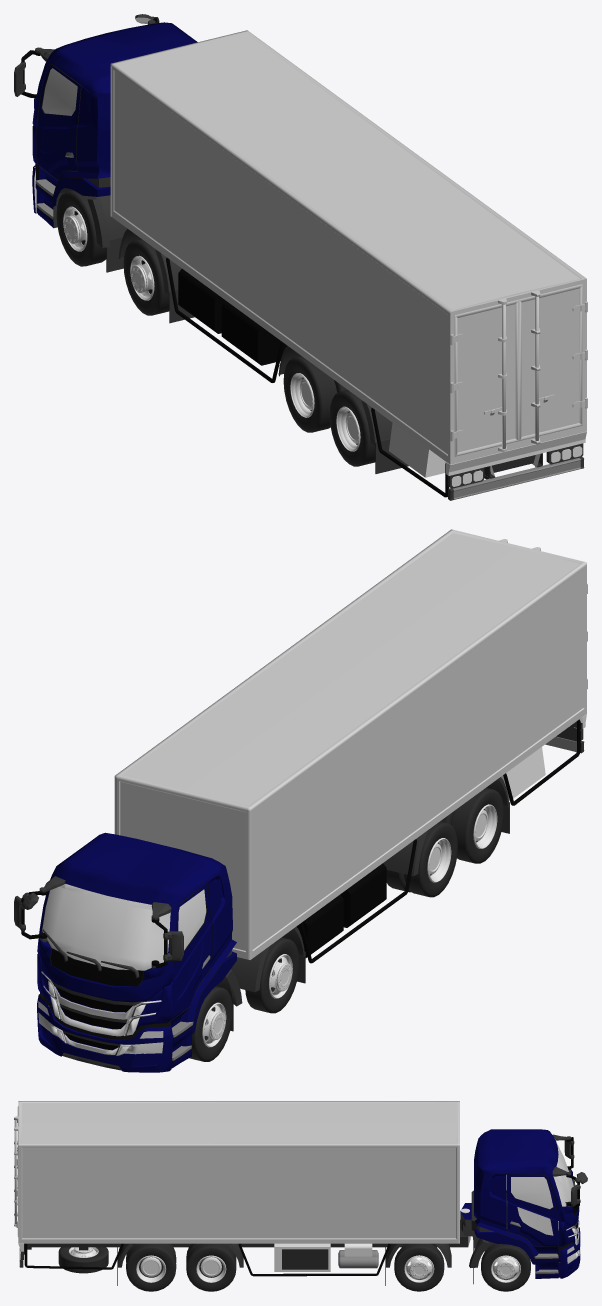
The model's file is Truck.fbx.
The picture shows the model from 3 angles, top to bottom: view 1: azimuth 30°, elevation 25°; view 2: azimuth 150°, elevation 25°; view 3: azimuth 270°, elevation 25°; orthographic projection. The views are drawn at different scales.
Parts seen in each view (by area): view 1: Truck_body_Truck_body.L, Truck_head_Truck_head.L, wheels_Circle.008, wheels_Circle.001, wheels_Circle.025, wheels_Circle.013, wheels_Circle.014, wheels_Circle.012, wheels_Circle.002, wheels_Circle.024; view 2: Truck_body_Truck_body.L, Truck_head_Truck_head.L, wheels_Circle.013, wheels_Circle.008, wheels_Circle.025, wheels_Circle.001, wheels_Circle.014, wheels_Circle.012, wheels_Circle.002, wheels_Circle.024; view 3: Truck_body_Truck_body.L, Truck_head_Truck_head.L, wheels_Circle.006, wheels_Circle.010, wheels_Circle.028, wheels_Circle.027, wheels_Circle.029, wheels_Circle.026, wheels_Circle.009, wheels_Circle.007.
Boxes of the visible parts, left/top/right/bottom form: Truck_body_Truck_body.L: left=110, top=30, right=587, bottom=500; Truck_head_Truck_head.L: left=14, top=14, right=197, bottom=272; wheels_Circle.008: left=283, top=356, right=347, bottom=432; wheels_Circle.001: left=56, top=190, right=106, bottom=266; wheels_Circle.025: left=123, top=239, right=169, bottom=315; wheels_Circle.013: left=329, top=390, right=375, bottom=466; wheels_Circle.014: left=336, top=406, right=360, bottom=451; wheels_Circle.012: left=290, top=373, right=314, bottom=417; wheels_Circle.002: left=63, top=206, right=87, bottom=251; wheels_Circle.024: left=130, top=255, right=154, bottom=300; Truck_body_Truck_body.L: left=114, top=529, right=587, bottom=992; Truck_head_Truck_head.L: left=14, top=832, right=242, bottom=1072; wheels_Circle.013: left=440, top=787, right=503, bottom=863; wheels_Circle.008: left=386, top=821, right=457, bottom=897; wheels_Circle.025: left=245, top=937, right=299, bottom=1013; wheels_Circle.001: left=189, top=986, right=232, bottom=1061; wheels_Circle.014: left=473, top=804, right=497, bottom=848; wheels_Circle.012: left=427, top=838, right=451, bottom=882; wheels_Circle.002: left=202, top=1002, right=226, bottom=1047; wheels_Circle.024: left=269, top=954, right=292, bottom=998; Truck_body_Truck_body.L: left=14, top=1101, right=470, bottom=1285; Truck_head_Truck_head.L: left=460, top=1129, right=587, bottom=1284; wheels_Circle.006: left=126, top=1243, right=176, bottom=1291; wheels_Circle.010: left=186, top=1243, right=236, bottom=1291; wheels_Circle.028: left=394, top=1243, right=444, bottom=1291; wheels_Circle.027: left=481, top=1243, right=530, bottom=1291; wheels_Circle.029: left=404, top=1255, right=434, bottom=1282; wheels_Circle.026: left=491, top=1255, right=520, bottom=1282; wheels_Circle.009: left=196, top=1255, right=226, bottom=1282; wheels_Circle.007: left=136, top=1255, right=166, bottom=1282.
Bounding box in the file's own units: 448 × 587 × 2068.
